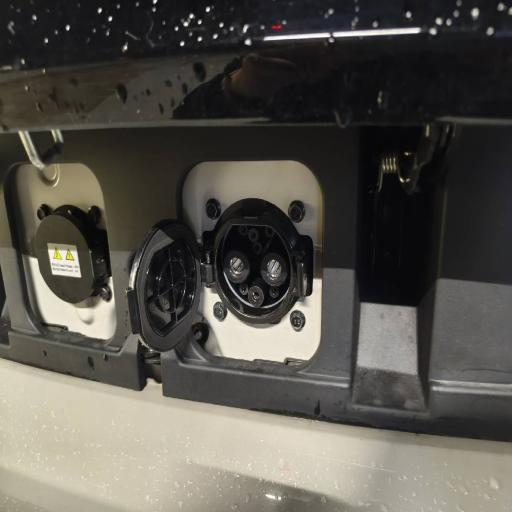DC_hole: (259, 251, 288, 287), (223, 248, 250, 285)
PE: (247, 286, 264, 308)
charging_port: (213, 216, 297, 326)
